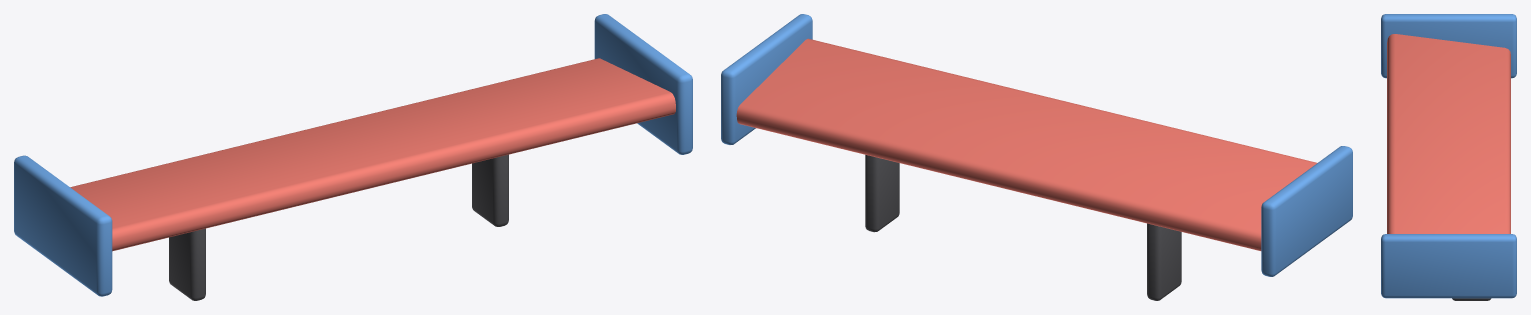
File: Spoiler_Wyscigowy.fbx
3 views of the same model, side by side, from view 1: azimuth 30°, elevation 25°; view 2: azimuth 150°, elevation 25°; view 3: azimuth 270°, elevation 25° (orthographic). The views are drawn at different scales.
Visible parts, largest first — view 1: Spoiler_Wyscigowy; view 2: Spoiler_Wyscigowy; view 3: Spoiler_Wyscigowy.
Part boxes in pixels (x1=…): Spoiler_Wyscigowy: x1=14, y1=14, x2=692, y2=300; Spoiler_Wyscigowy: x1=721, y1=14, x2=1352, y2=300; Spoiler_Wyscigowy: x1=1381, y1=14, x2=1516, y2=300.
Size of the model in its own units: 2.36 by 0.57 by 0.6.
